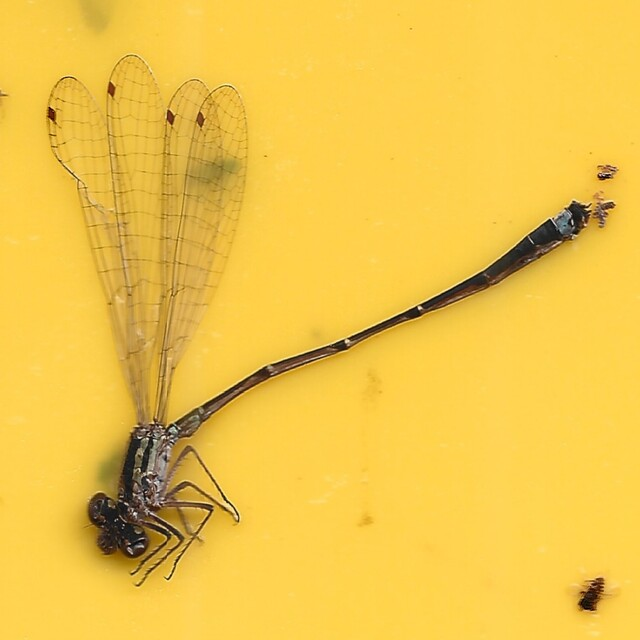Odonata: (47, 54, 593, 586)
